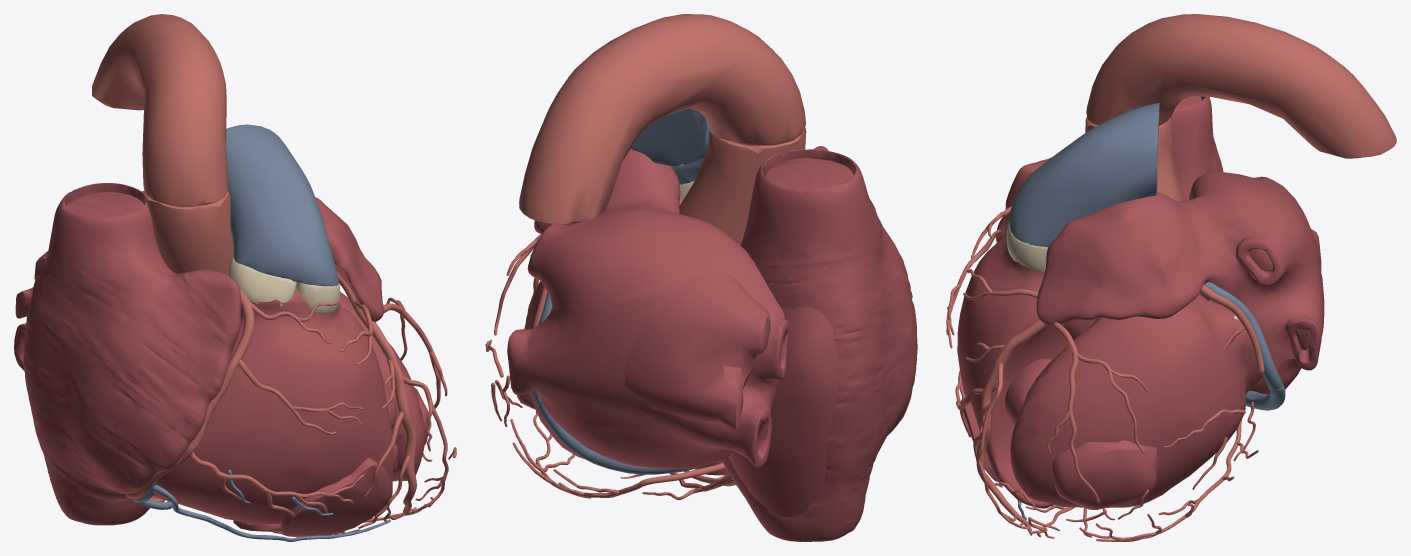
File: heart-anatomical.glb
3 views of the same model, side by side, from view 1: azimuth 30°, elevation 25°; view 2: azimuth 150°, elevation 25°; view 3: azimuth 270°, elevation 25° (orthographic). The views are drawn at different scales.
Visible parts, largest first — view 1: wall of right atrium, cavity of right ventricle, arch of aorta, pulmonary trunk, ascending aorta, anterior wall of right ventricle, wall of left atrium, cavity of left ventricle, trunk of anterior interventricular branch of left coronary a, trunk of right coronary artery, right anterior cusp of pulmonary valve, cavity of right atrium (+6 smaller); view 2: wall of left atrium, wall of right atrium, arch of aorta, cavity of left atrium, cavity of right atrium, ascending aorta, pulmonary trunk, coronary sinus, cavity of left ventricle, trunk of right coronary artery, first posterior ventricular branch of right coronary artery; view 3: wall of left atrium, cavity of left ventricle, arch of aorta, pulmonary trunk, cavity of right ventricle, myocardial zone 11, wall of right atrium, diagonal branch of anterior descending branch of left corona (×3), trunk of anterior interventricular branch of left coronary a, ascending aorta, myocardial zone 12, great cardiac vein (+6 smaller).
Boxes of the visible parts, left/top/right/bottom form: wall of right atrium: left=23, top=183, right=240, bottom=525; cavity of right ventricle: left=153, top=287, right=393, bottom=524; arch of aorta: left=92, top=14, right=228, bottom=207; pulmonary trunk: left=226, top=124, right=338, bottom=286; ascending aorta: left=144, top=191, right=233, bottom=274; anterior wall of right ventricle: left=280, top=457, right=391, bottom=536; wall of left atrium: left=14, top=190, right=384, bottom=370; cavity of left ventricle: left=339, top=292, right=425, bottom=480; trunk of anterior interventricular branch of left coronary a: left=337, top=272, right=416, bottom=515; trunk of right coronary artery: left=125, top=289, right=254, bottom=502; right anterior cusp of pulmonary valve: left=227, top=257, right=296, bottom=306; cavity of right atrium: left=67, top=192, right=143, bottom=217; wall of left atrium: left=507, top=148, right=789, bottom=469; wall of right atrium: left=722, top=146, right=917, bottom=541; arch of aorta: left=519, top=14, right=805, bottom=224; cavity of left atrium: left=623, top=272, right=770, bottom=429; cavity of right atrium: left=728, top=158, right=853, bottom=516; ascending aorta: left=679, top=127, right=806, bottom=245; pulmonary trunk: left=630, top=108, right=710, bottom=184; coronary sinus: left=538, top=404, right=698, bottom=474; cavity of left ventricle: left=525, top=281, right=583, bottom=458; trunk of right coronary artery: left=639, top=462, right=725, bottom=486; first posterior ventricular branch of right coronary artery: left=535, top=439, right=641, bottom=497; wall of left atrium: left=1036, top=172, right=1324, bottom=394; cavity of left ventricle: left=1010, top=293, right=1262, bottom=507; arch of aorta: left=1086, top=14, right=1396, bottom=158; pulmonary trunk: left=1009, top=103, right=1159, bottom=247; cavity of right ventricle: left=957, top=236, right=1067, bottom=508; myocardial zone 11: left=1051, top=440, right=1158, bottom=509; wall of right atrium: left=995, top=96, right=1223, bottom=239; diagonal branch of anterior descending branch of left corona (×3): left=976, top=322, right=1145, bottom=521; trunk of anterior interventricular branch of left coronary a: left=976, top=319, right=1046, bottom=531; ascending aorta: left=1085, top=117, right=1183, bottom=201; myocardial zone 12: left=1005, top=358, right=1053, bottom=424; great cardiac vein: left=1204, top=282, right=1282, bottom=391.
Size of the model in its own units: 4.88 by 6 by 5.35.
